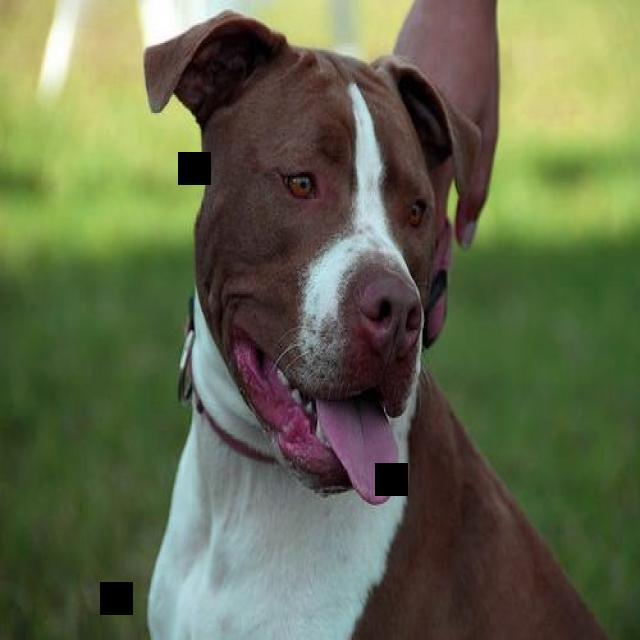adult_dog: (145, 14, 608, 633)
